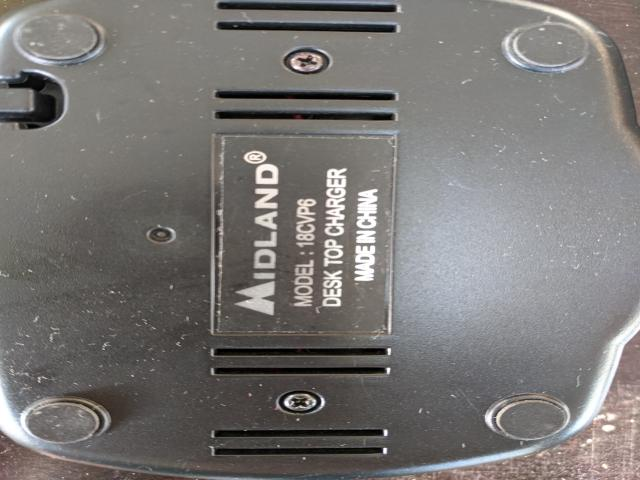CRS: (278, 46, 336, 76), (273, 389, 326, 414)
